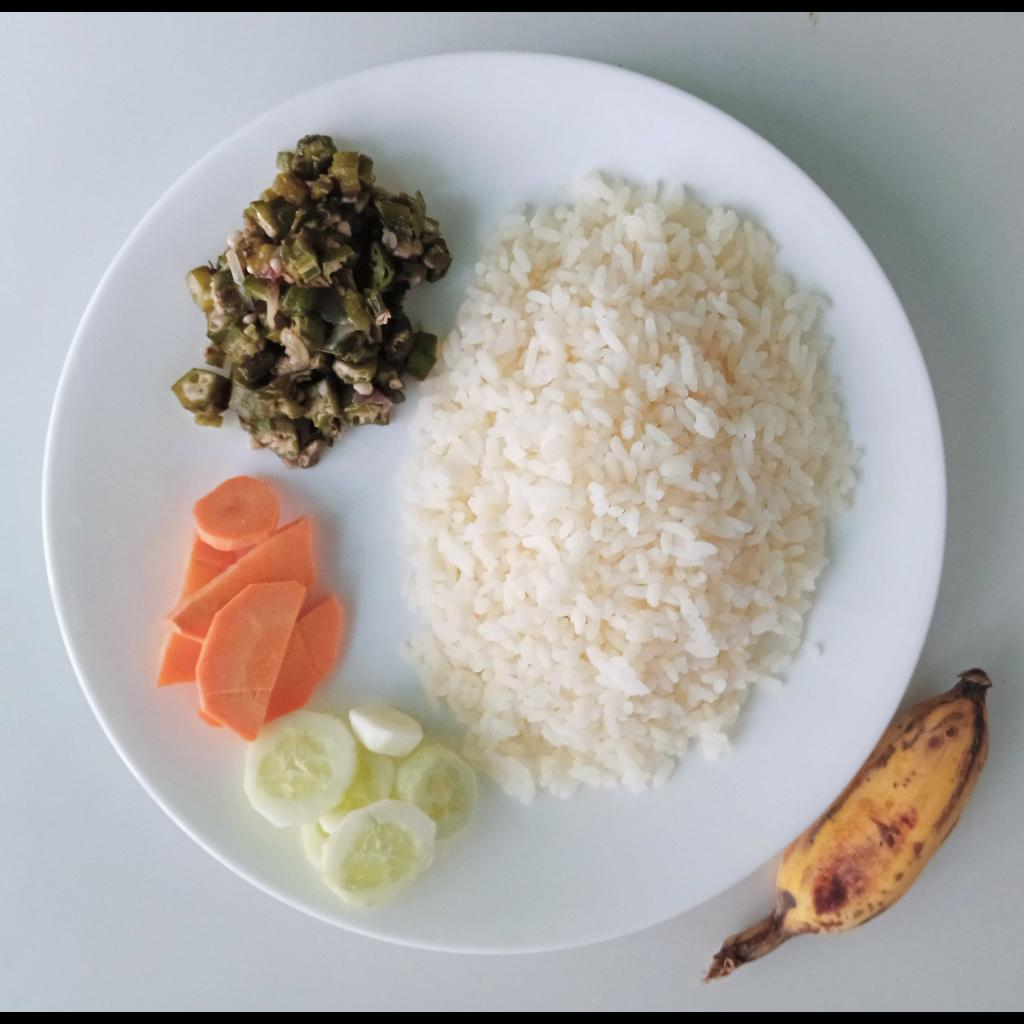banana: (704, 668, 995, 987)
carrot: (152, 476, 343, 744)
cucumber: (244, 701, 474, 911)
okra: (173, 134, 457, 472)
rice: (400, 172, 870, 804)
